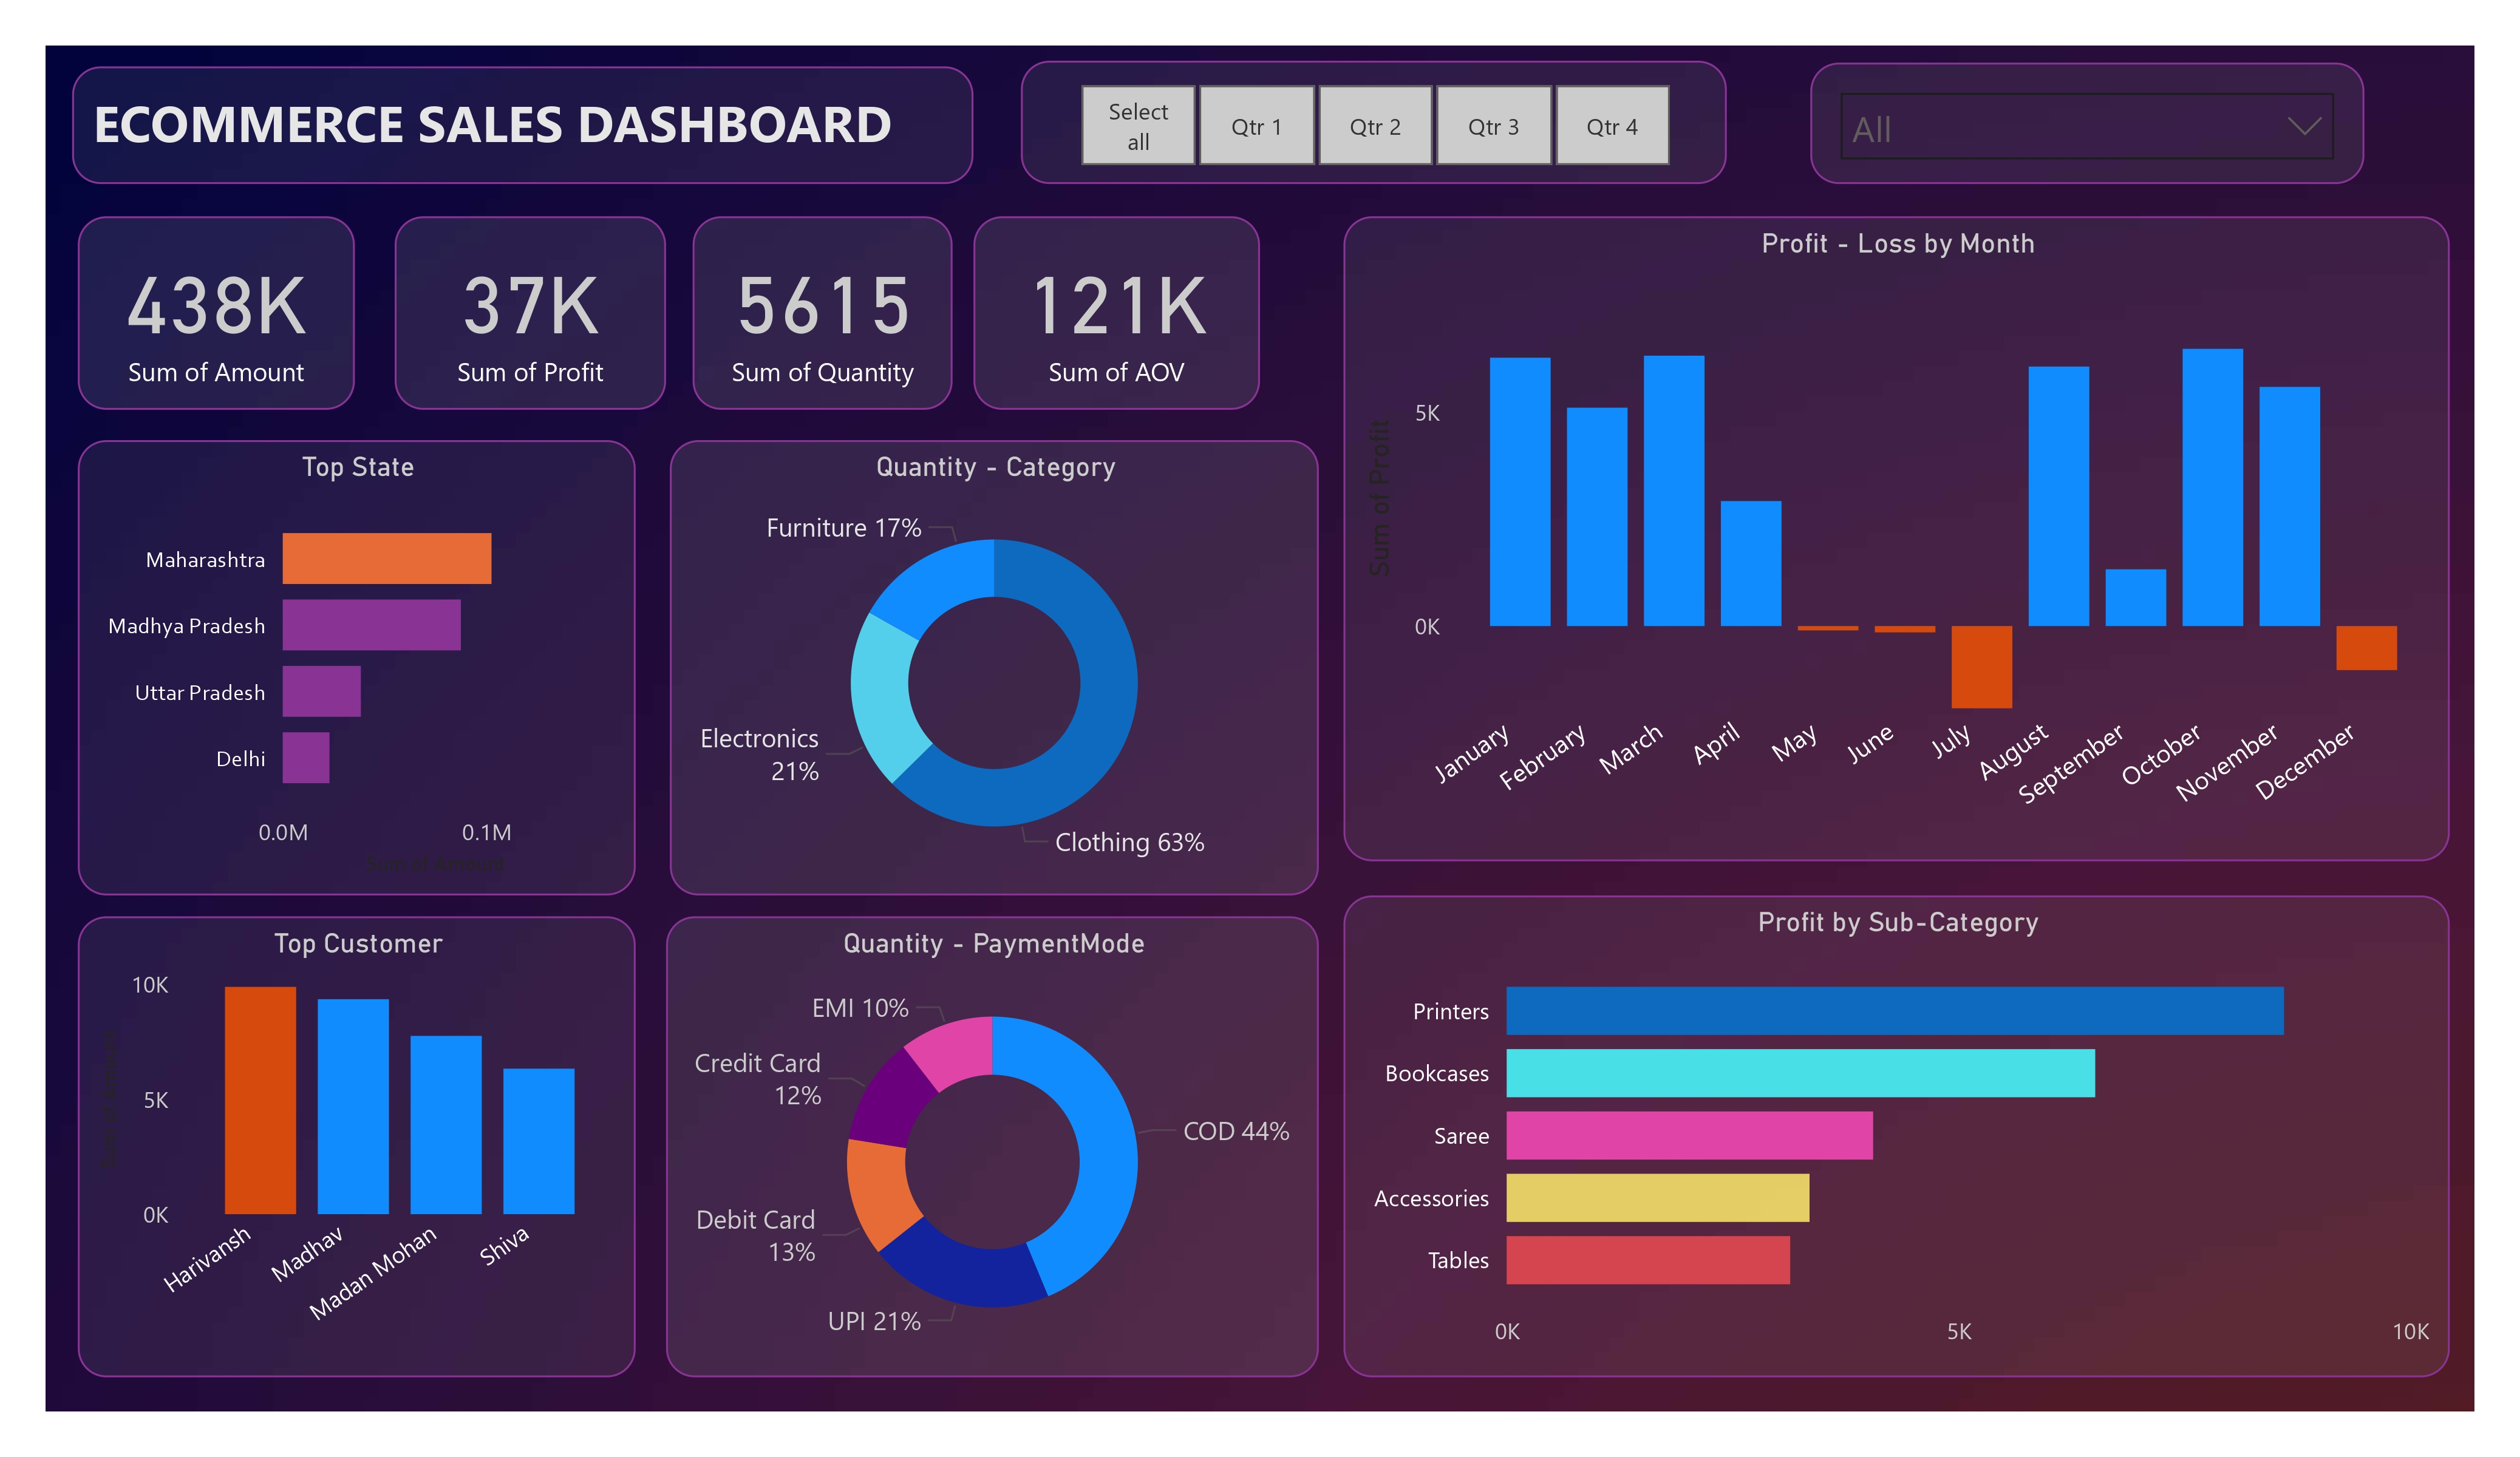

The page's visual inventory and layout, read from the dashboard file:
{"tool":"powerbi","page":{"name":"Page 1","canvas":[1280,720],"ordinal":0},"visuals":[{"type":"columnChart","title":" Profit - Loss by Month","fields":{"Category":["Orders (2).Order Date.Variation.Date Hierarchy.Month"],"Y":["Details.Profit"]},"box":[684.1,90.5,582.5,339.7],"z":0},{"type":"textbox","box":[14.3,11.1,474.6,61.9],"z":1000},{"type":"barChart","title":" Profit by Sub-Category","fields":{"Category":["Details.Sub-Category"],"Y":["Details.Profit"]},"box":[684.1,447.6,582.5,254],"z":2000},{"type":"donutChart","title":"Quantity - Category","fields":{"Category":["Details.Category"],"Y":["Details.Quantity"]},"box":[328.6,207.9,342.9,239.7],"z":3000},{"type":"donutChart","title":"Quantity - PaymentMode","fields":{"Y":["Details.Quantity"],"Category":["Details.PaymentMode"]},"box":[327,458.7,344.4,242.9],"z":4000},{"type":"card","fields":{"Values":["Details.Amount"]},"box":[17.5,90.5,146,101.6],"z":5000},{"type":"card","fields":{"Values":["Details.Profit"]},"box":[184.1,90.5,142.9,101.6],"z":6000},{"type":"card","fields":{"Values":["Details.Quantity"]},"box":[341.3,90.5,136.5,101.6],"z":7000},{"type":"card","fields":{"Values":["Details.AOV"]},"box":[488.9,90.5,150.8,101.6],"z":8000},{"type":"barChart","title":"Top State","fields":{"Category":["Orders (2).State"],"Y":["Details.Amount"]},"box":[17.5,207.9,293.7,239.7],"z":9000},{"type":"columnChart","title":"Top Customer","fields":{"Category":["Orders (2).CustomerName"],"Y":["Details.Amount"]},"box":[17.5,458.7,293.7,242.9],"z":10000},{"type":"slicer","fields":{"Values":["Orders (2).Order Date.Variation.Date Hierarchy.Quarter"]},"box":[514.3,7.9,371.4,65.1],"z":10002},{"type":"slicer","fields":{"Values":["Orders (2).State"]},"box":[930.2,9,292.1,64],"z":10003}]}

Visuals, with their boxes on the page's 1280x720 design canvas (x1, y1, x2, y2). These are canvas units, not pixel positions in the 2520x1457 screenshot, which may show the page scaled, cropped or inside an application window:
" Profit - Loss by Month" columnChart: <bbox>684, 90, 1267, 430</bbox>
textbox: <bbox>14, 11, 489, 73</bbox>
" Profit by Sub-Category" barChart: <bbox>684, 448, 1267, 702</bbox>
"Quantity - Category" donutChart: <bbox>329, 208, 672, 448</bbox>
"Quantity - PaymentMode" donutChart: <bbox>327, 459, 671, 702</bbox>
card - Details.Amount: <bbox>18, 90, 164, 192</bbox>
card - Details.Profit: <bbox>184, 90, 327, 192</bbox>
card - Details.Quantity: <bbox>341, 90, 478, 192</bbox>
card - Details.AOV: <bbox>489, 90, 640, 192</bbox>
"Top State" barChart: <bbox>18, 208, 311, 448</bbox>
"Top Customer" columnChart: <bbox>18, 459, 311, 702</bbox>
slicer - Orders (2).Order Date.Variation.Date Hierarchy.Quarter: <bbox>514, 8, 886, 73</bbox>
slicer - Orders (2).State: <bbox>930, 9, 1222, 73</bbox>
